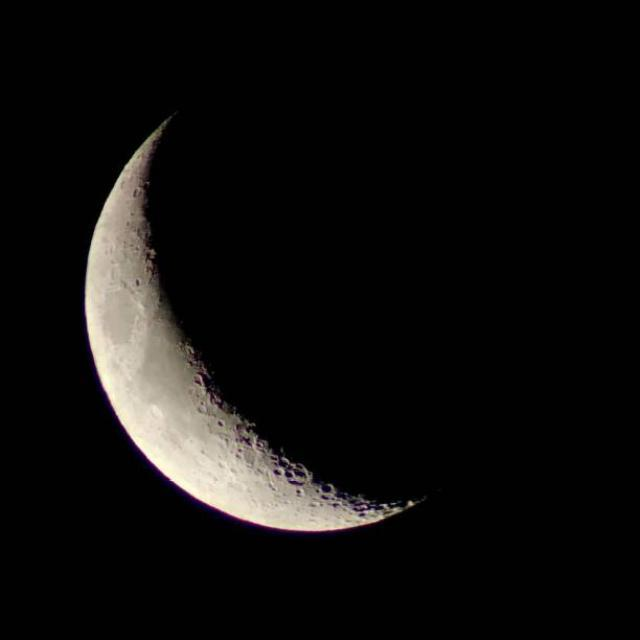moon: (71, 69, 547, 532)
